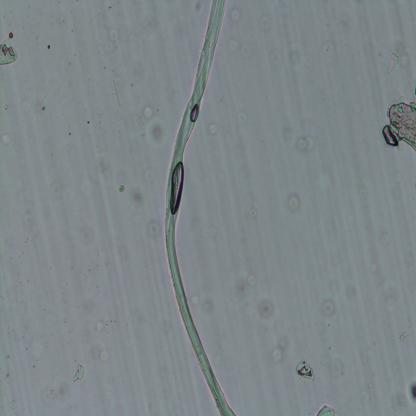Background material: (89, 21, 131, 99), (79, 305, 119, 363), (378, 92, 416, 149), (112, 158, 150, 207), (15, 77, 45, 118), (67, 216, 104, 249), (376, 271, 405, 307), (142, 106, 168, 146), (36, 378, 73, 406), (293, 356, 318, 388), (67, 158, 89, 192), (0, 32, 21, 63), (234, 271, 256, 299), (228, 34, 251, 58), (317, 291, 336, 317), (49, 172, 67, 198), (30, 334, 45, 364), (383, 49, 400, 75), (295, 134, 316, 155), (331, 354, 348, 379), (393, 326, 415, 345), (227, 1, 245, 24), (272, 337, 290, 359), (206, 115, 222, 139), (253, 14, 271, 35), (284, 192, 302, 213), (259, 300, 275, 322), (146, 218, 164, 236), (314, 404, 336, 416), (407, 380, 416, 405), (72, 363, 84, 381), (0, 132, 13, 147), (191, 294, 201, 305)
Microfibre: (164, 0, 235, 416)
